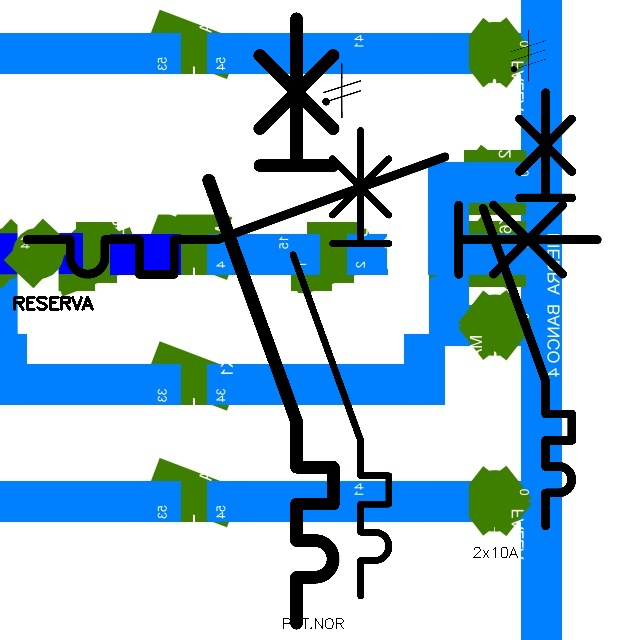interruptor_termomagnetico: (193, 3, 349, 639), (12, 142, 612, 289), (281, 118, 401, 607), (472, 81, 583, 536)
